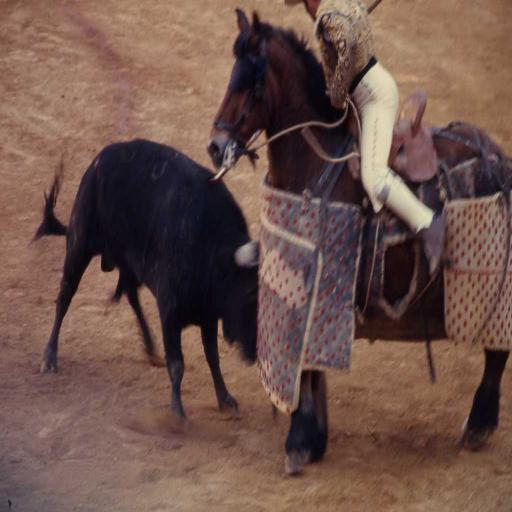horse: (206, 8, 512, 476)
